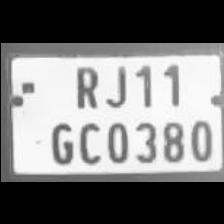0: (186, 112, 216, 160), (101, 116, 128, 162)
1: (130, 58, 156, 108), (158, 58, 184, 106)
3: (131, 115, 158, 163)
8: (156, 116, 186, 162)
C: (75, 116, 101, 162)
G: (44, 117, 76, 163)
J: (101, 60, 128, 108)
R: (69, 62, 101, 110)
